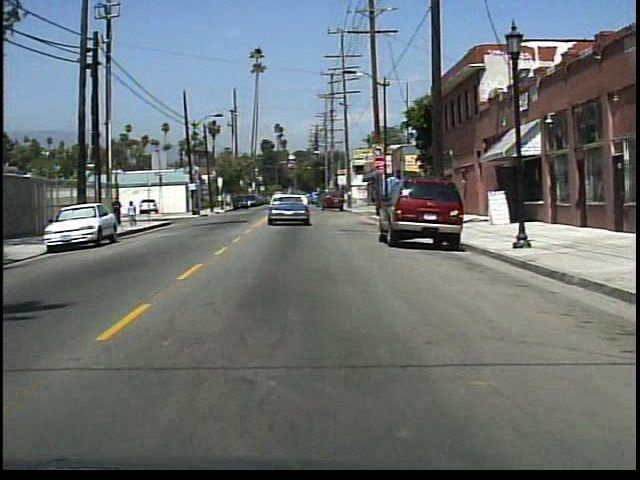person: (111, 195, 127, 229), (128, 199, 142, 230)
